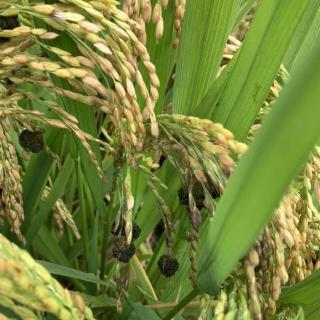Gosong-Palsu: (176, 176, 222, 210), (109, 216, 143, 261), (17, 126, 48, 154), (0, 12, 22, 44), (156, 252, 180, 278)
